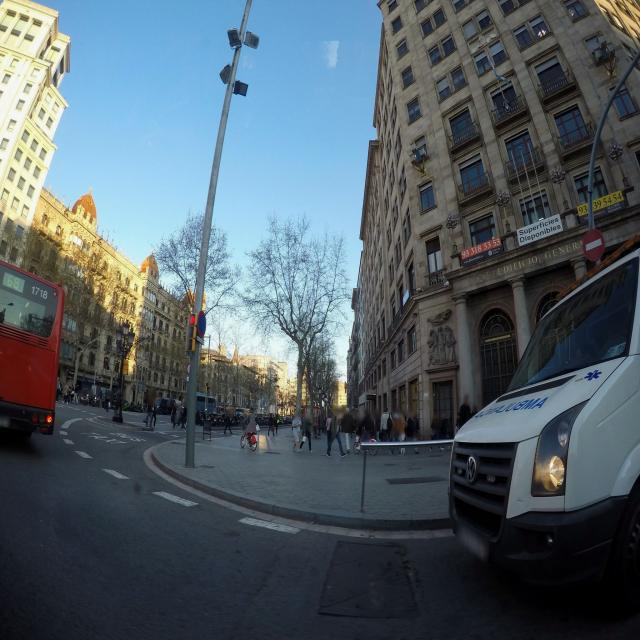car: (448, 230, 640, 618)
